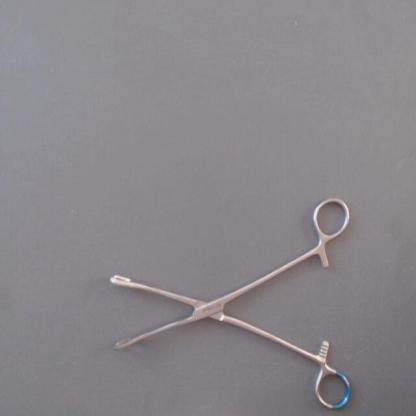Sponge Forceps: (97, 185, 356, 415)
